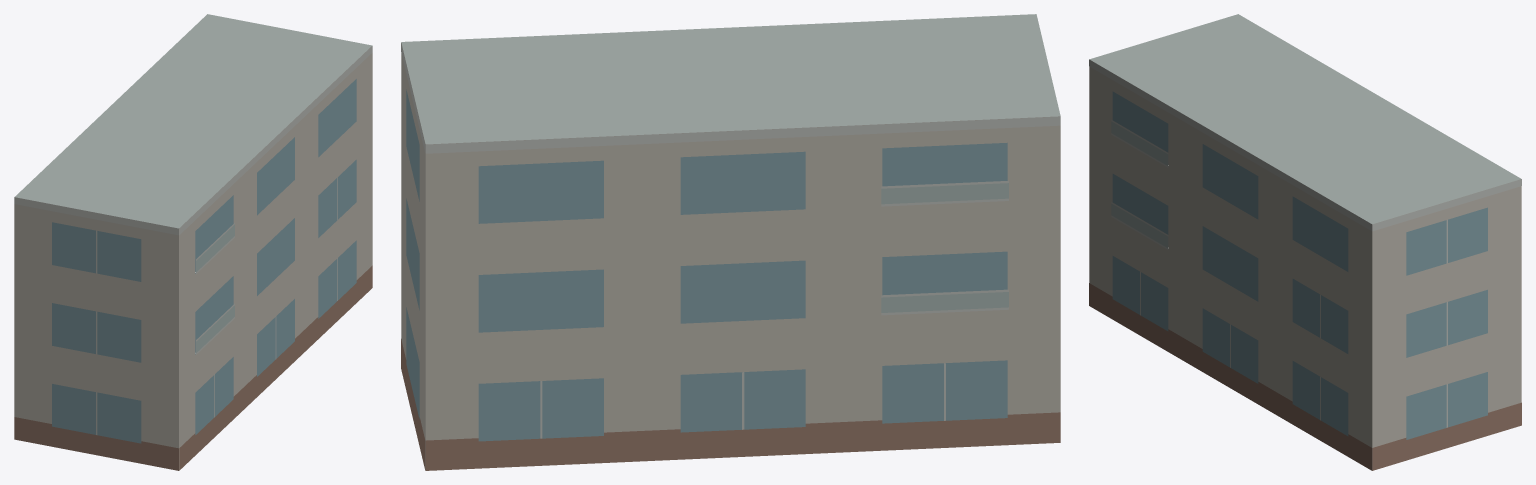
File: survey-upis-32802898.glb
The picture shows the model from 3 angles, left to right: view 1: azimuth 30°, elevation 25°; view 2: azimuth 150°, elevation 25°; view 3: azimuth 270°, elevation 25°; orthographic projection. The views are drawn at different scales.
Parts seen in each view (by area): view 1: survey-upis-32802898.tmp; view 2: survey-upis-32802898.tmp; view 3: survey-upis-32802898.tmp.
Boxes of the visible parts, bbox=[...] form: survey-upis-32802898.tmp: bbox=[14, 14, 372, 470]; survey-upis-32802898.tmp: bbox=[401, 14, 1060, 470]; survey-upis-32802898.tmp: bbox=[1089, 14, 1521, 470].
Bounding box in the file's own units: 15.57 × 8.5 × 13.53.
